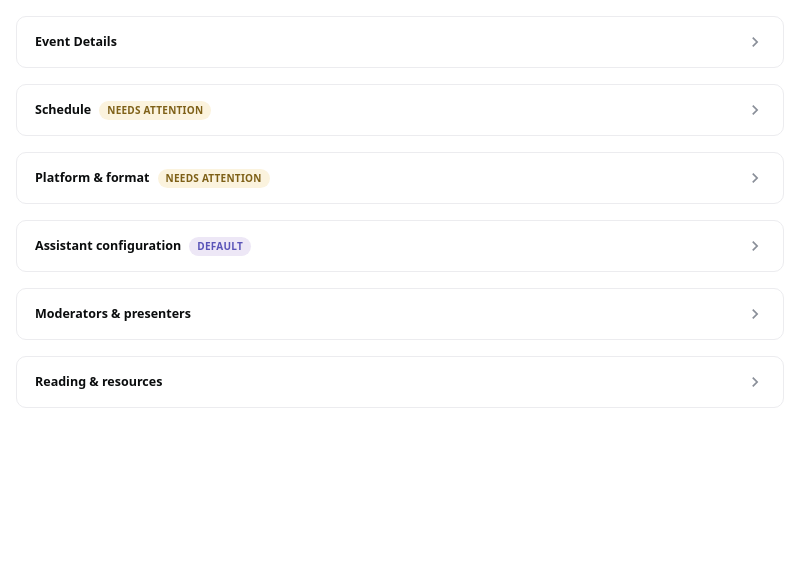
Test: EventDetails › Event Details section › hides the needs-attention callout when its dismiss button is clicked
Click the button "Event Details". click: {"x": 76, "y": 41}
box: [17,17,783,67]
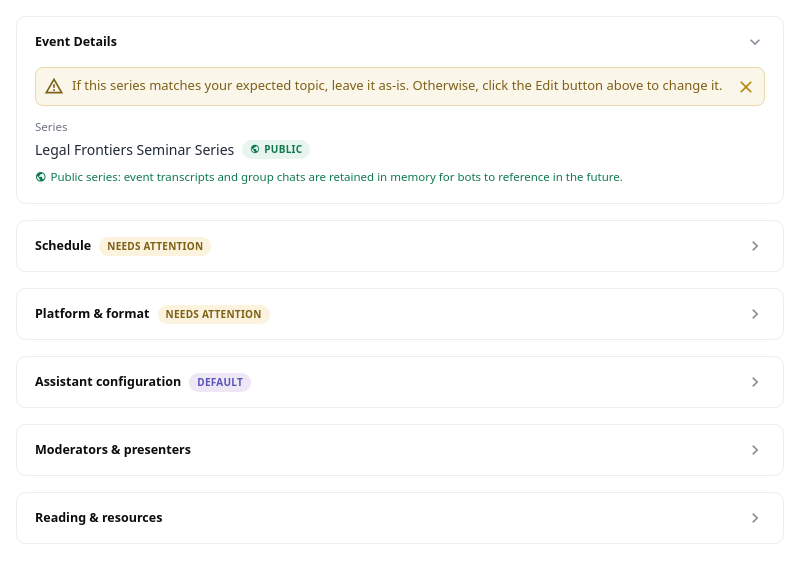
Result: the text "leave it as-is" is shown at [72,76,722,94]
Click the button named "dismiss". click: {"x": 746, "y": 86}
box: [736,76,756,96]
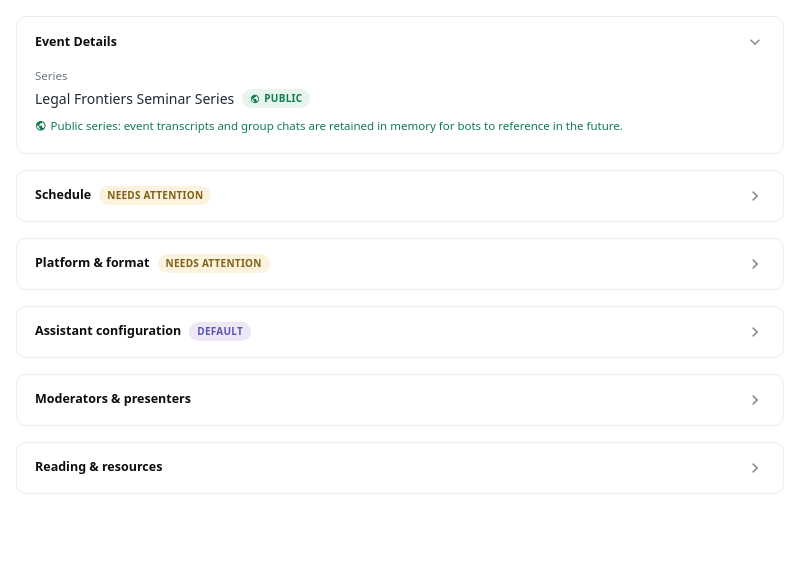
Result: the text "leave it as-is" is gone
